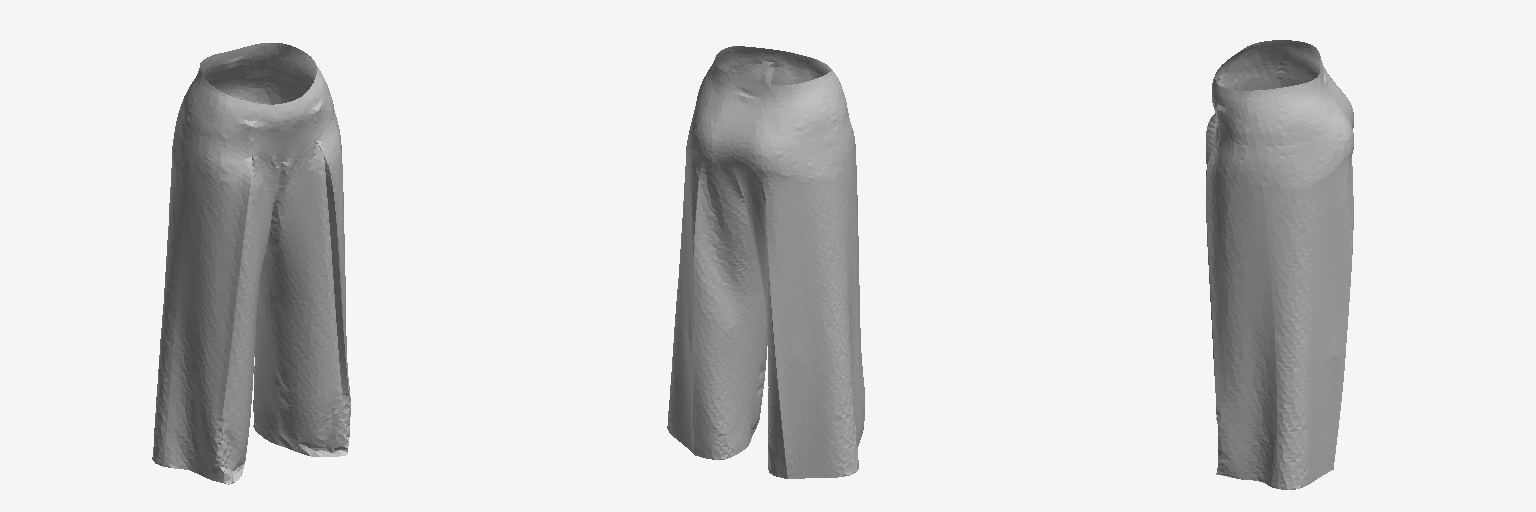
File: Medium_Tall.obj
3 views of the same model, side by side, from view 1: azimuth 30°, elevation 25°; view 2: azimuth 150°, elevation 25°; view 3: azimuth 270°, elevation 25° (orthographic).
Parts seen in each view (by area): view 1: changku.001; view 2: changku.001; view 3: changku.001.
Part boxes in pixels (bbox=[...]): changku.001: bbox=[152, 43, 350, 484]; changku.001: bbox=[667, 46, 864, 478]; changku.001: bbox=[1206, 40, 1353, 489].
Size of the model in its own units: 0.5139 by 0.9991 by 0.3485.